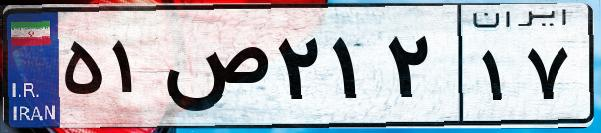1: (330, 28, 385, 110), (475, 38, 525, 113), (110, 28, 158, 98)
2: (270, 28, 330, 110), (385, 28, 445, 110)
5: (57, 26, 110, 100)
7: (525, 38, 570, 115)
ص: (158, 20, 270, 120)
